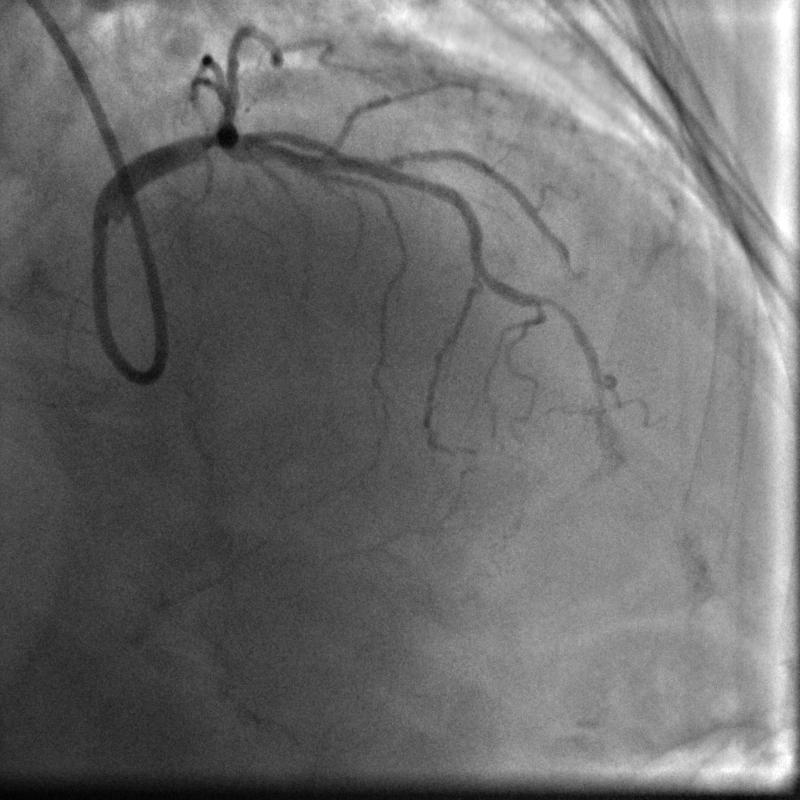Stenosis: (196, 114, 229, 163)
